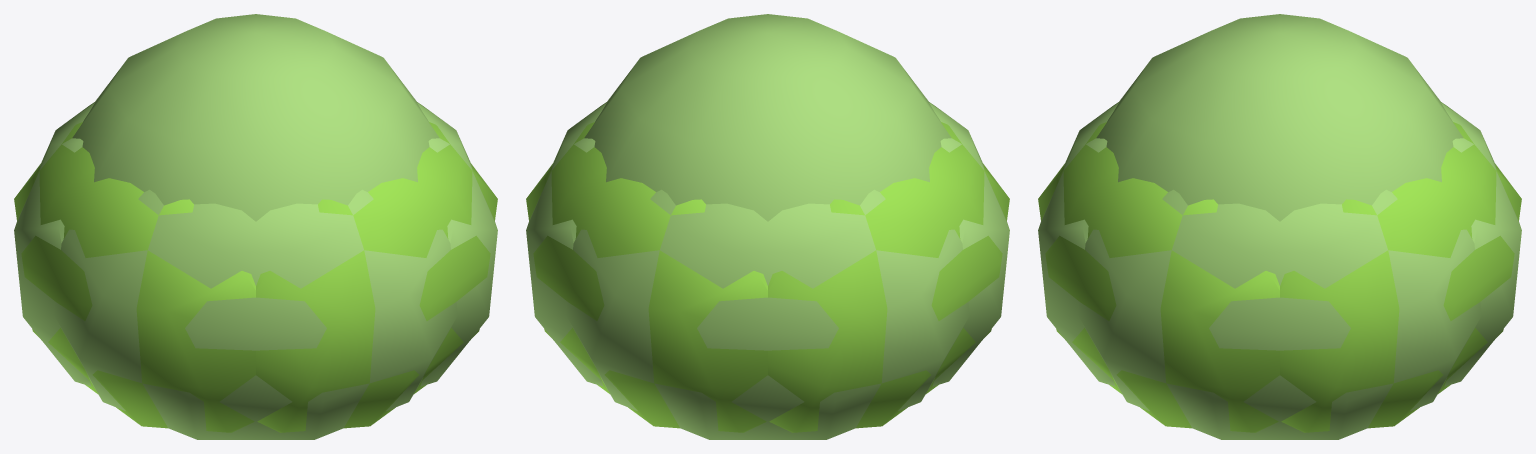
The model's file is Cabbage.fbx.
3 renders of one model, left to right at view 1: azimuth 30°, elevation 25°; view 2: azimuth 150°, elevation 25°; view 3: azimuth 270°, elevation 25°, orthographic.
Parts seen in each view (by area): view 1: Cabbage; view 2: Cabbage; view 3: Cabbage.
Part boxes in pixels (x1,y1,x2,y2): Cabbage: (14,14,497,439); Cabbage: (526,14,1009,439); Cabbage: (1038,14,1521,439).
Size of the model in its own units: 1.14 by 1 by 1.16.
1 material, 1 textured.
